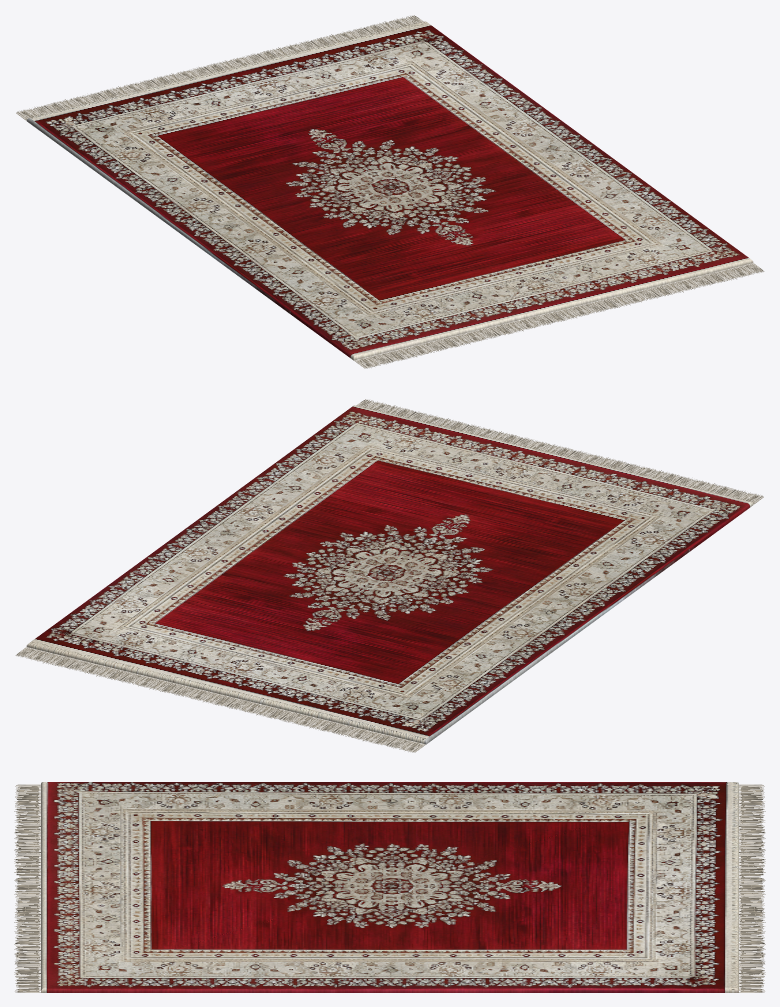
The picture shows the model from 3 angles, top to bottom: view 1: azimuth 30°, elevation 25°; view 2: azimuth 150°, elevation 25°; view 3: azimuth 270°, elevation 25°; orthographic projection. The views are drawn at different scales.
Parts seen in each view (by area): view 1: k03; view 2: k03; view 3: k03.
Part boxes in pixels (bbox=[...]): k03: bbox=[16, 15, 764, 368]; k03: bbox=[15, 399, 763, 752]; k03: bbox=[14, 782, 765, 992].
Size of the model in its own units: 1.2 by 0.0105 by 1.83.
3 materials, 2 textured.
